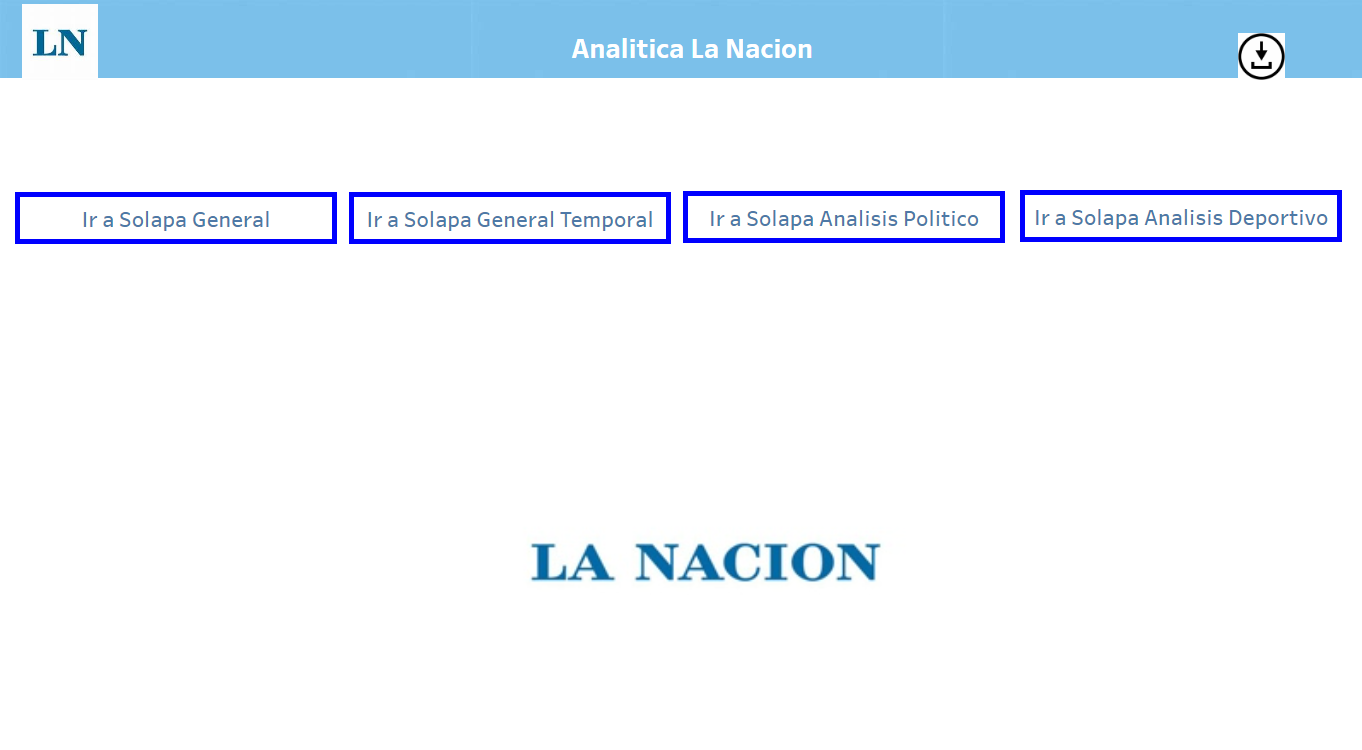

The page's visual inventory and layout, read from the dashboard file:
{"tool":"tableau","page":{"name":"Inicio","canvas":[1366,768],"ordinal":4},"visuals":[{"type":"image","param":"Image/OIP (2).jpg","box":[3,2,480,80]},{"type":"image","param":"Image/OIP (2).jpg","box":[475,2,627,80]},{"type":"image","param":"Image/OIP (2).jpg","box":[948,2,418,80]},{"type":"image","param":"Image/OIP (3).jpg","box":[26,8,89,76]},{"type":"text","box":[505,32,382,37]},{"type":"dashboard-object","box":[1204,37,123,47]},{"type":"dashboard-object","box":[1024,194,322,52]},{"type":"dashboard-object","box":[687,195,322,52]},{"type":"dashboard-object","box":[19,196,322,52]},{"type":"dashboard-object","box":[353,196,322,52]},{"type":"image","param":"Image/R.png","box":[500,367,547,401]}]}

Visuals, with their boxes in screenshot pixels (x1, y1, x2, y2), scaled from the page's 1366x768 canvas onto the 1362x750 screenshot:
image: 3,2,482,80
image: 474,2,1099,80
image: 945,2,1361,80
image: 26,8,115,82
text: 504,31,884,67
dashboard-object: 1200,36,1323,82
dashboard-object: 1021,189,1342,240
dashboard-object: 685,190,1006,241
dashboard-object: 19,191,340,242
dashboard-object: 352,191,673,242
image: 499,358,1044,749
